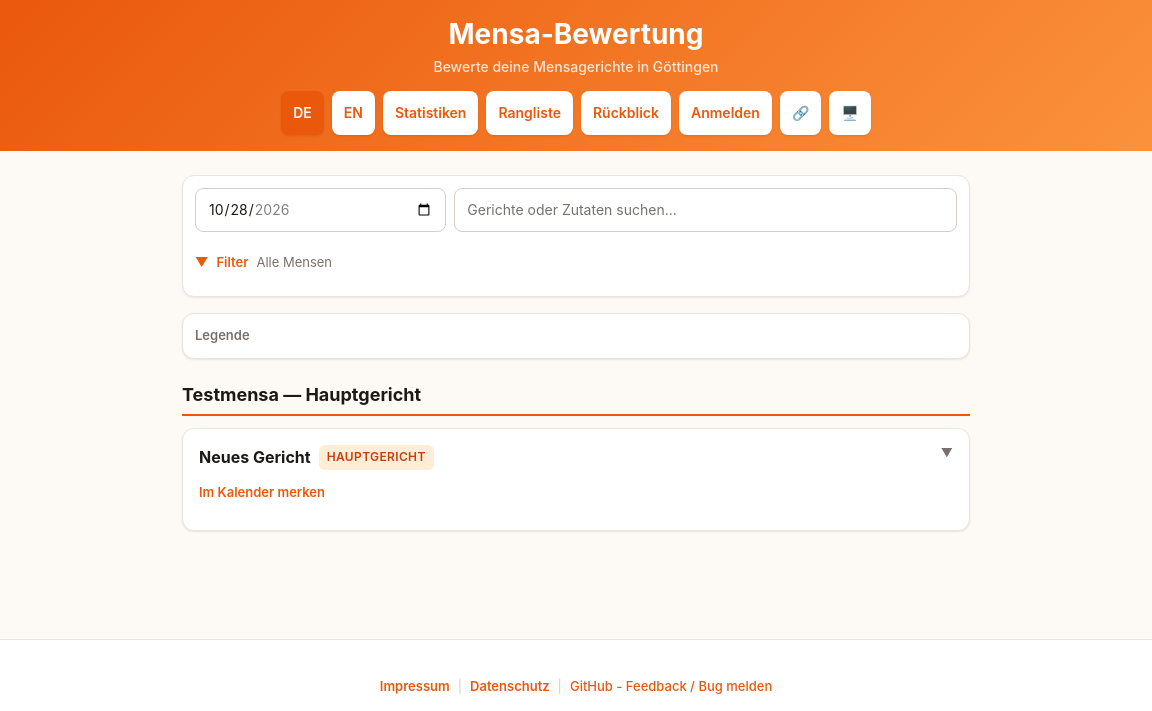
a submitted comment appears in the list without a reload
Step 1. Click the text "Neues Gericht" → (255, 458), box [199,447,311,468]
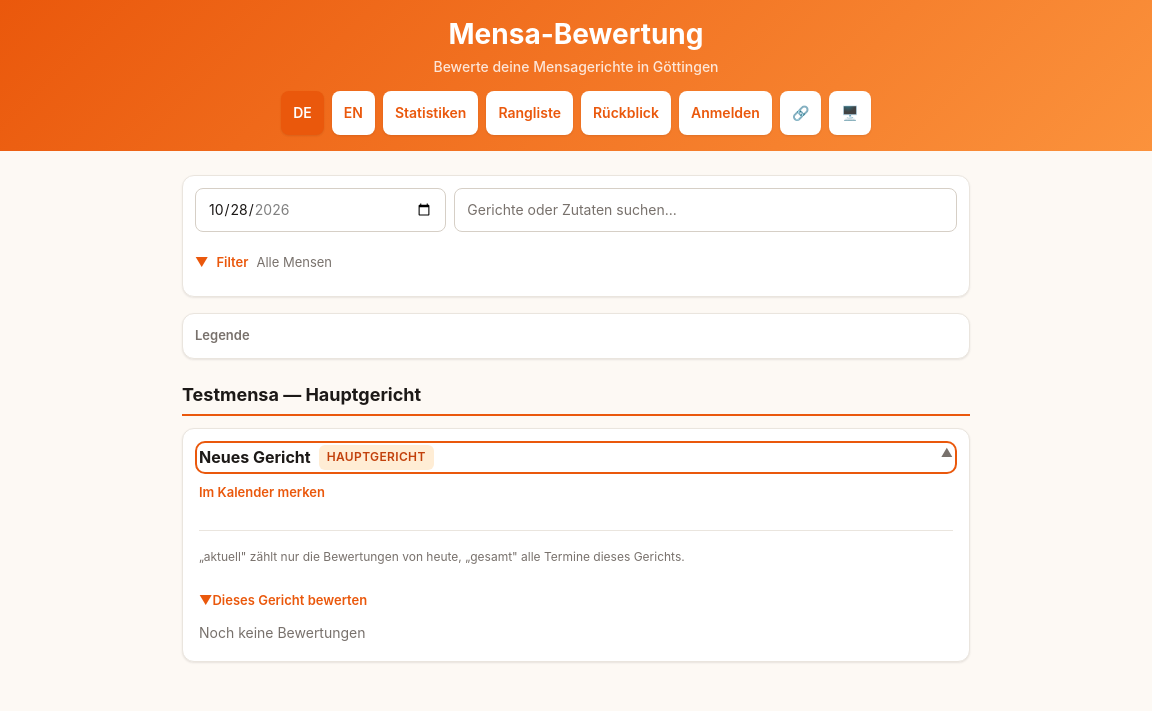
Step 2. Click the button "▼ Dieses Gericht bewerten" → (283, 600), box [199,578,367,622]
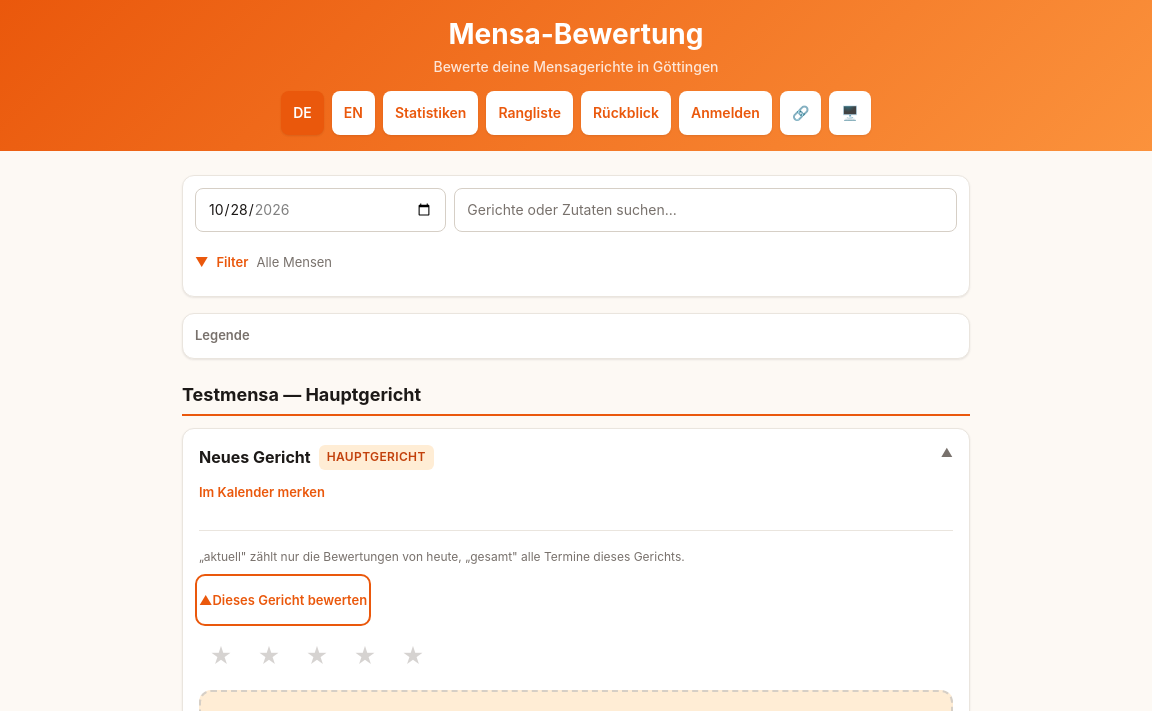
Step 3. Click the 5th button with class "star-btn" → (413, 656), box [391,634,435,678]
(page scrolled)
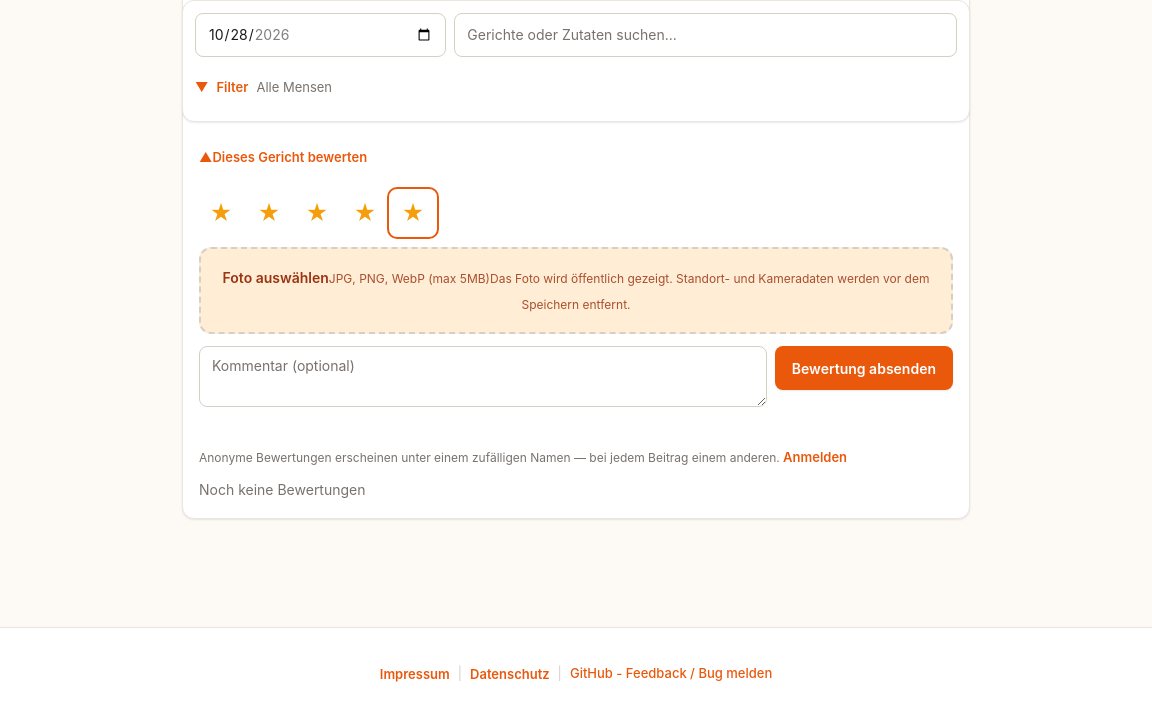
Step 4. Type "Frisch gekocht" into the text box labelled "Kommentar (optional)" → (483, 377), box [199,346,767,407]
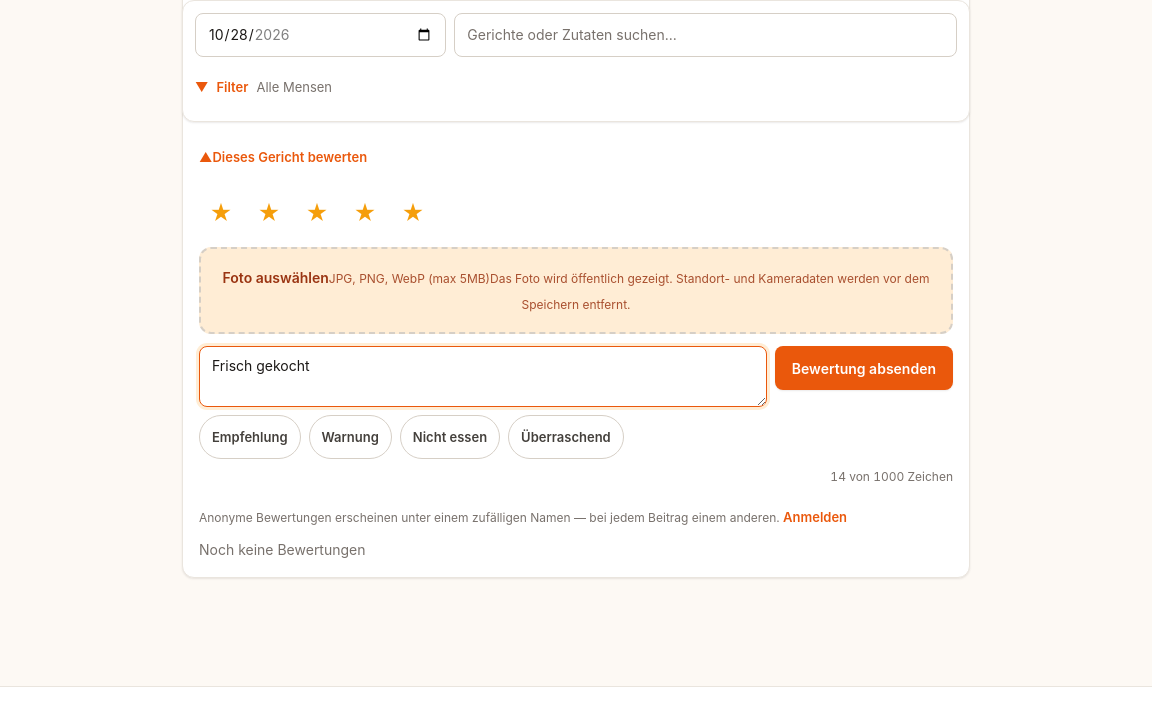
Step 5. Click the button "Bewertung absenden" → (864, 368), box [775,346,953,390]
(page scrolled)
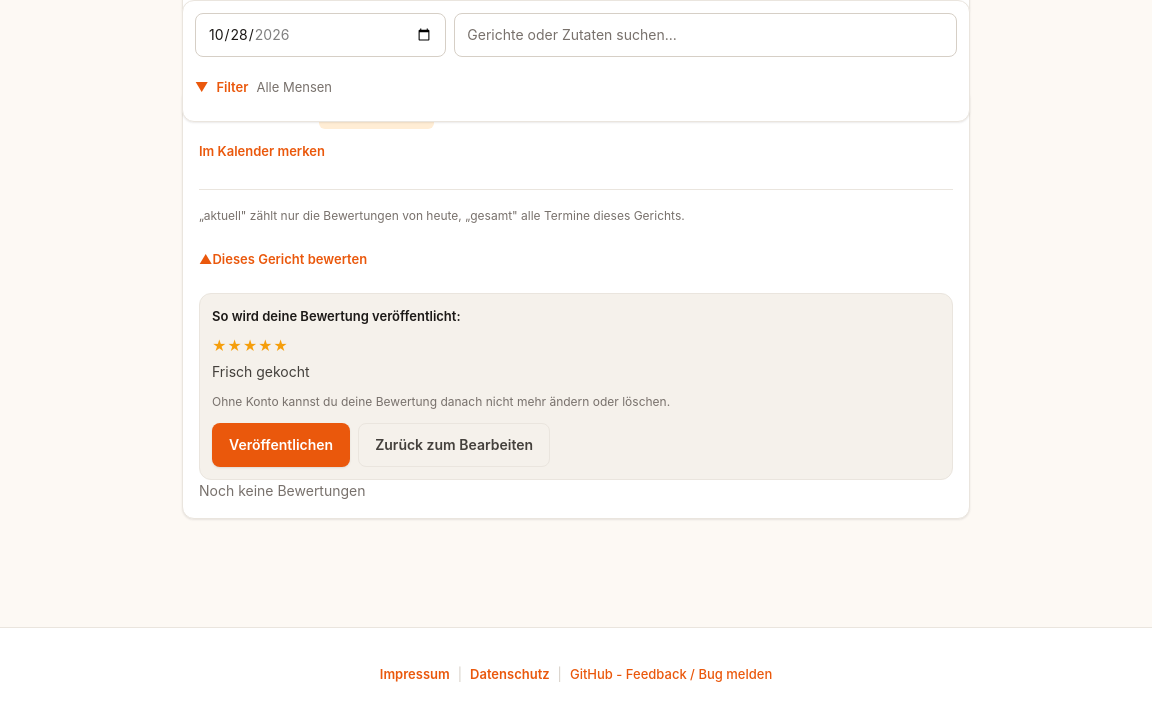
expect the text "So wird deine Bewertung veröffentlicht:" is shown: met, box [212,308,461,324]
Step 6. Click the button "Veröffentlichen" → (281, 445), box [212,423,350,467]
(page scrolled)
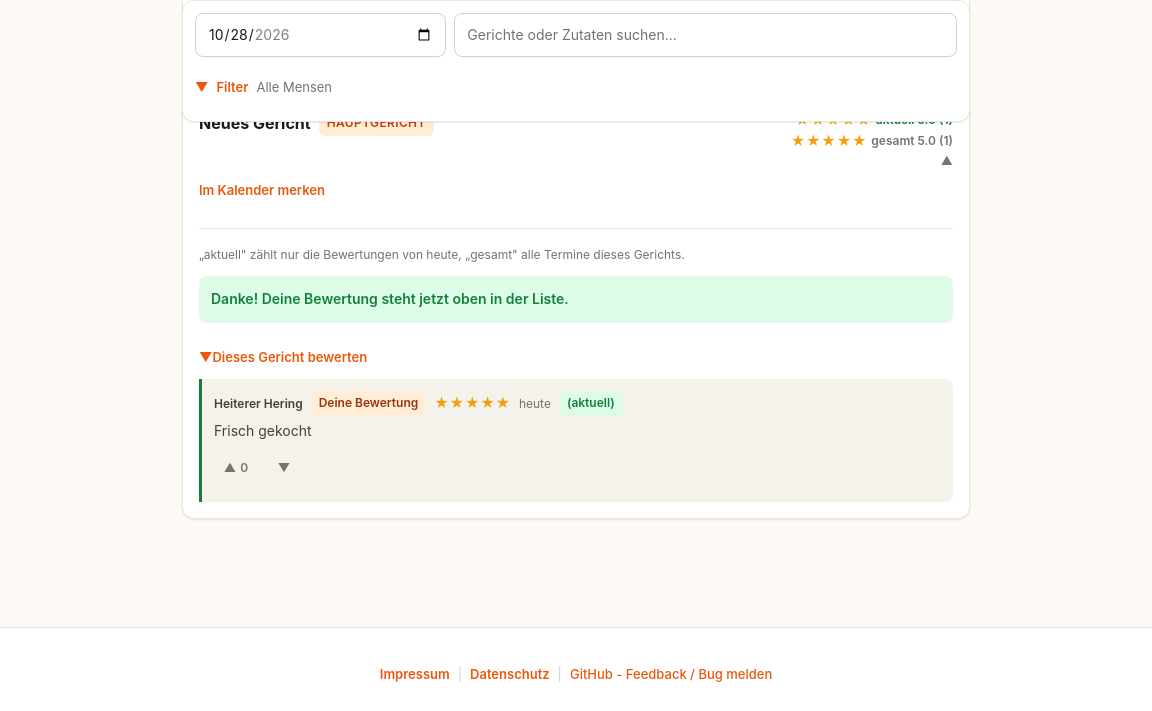
expect the text "Frisch gekocht" is shown: met, box [214,422,312,438]
expect the text "Danke! Deine Bewertung steht jetzt oben in der Liste." is shown: met, box [199,276,953,323]
